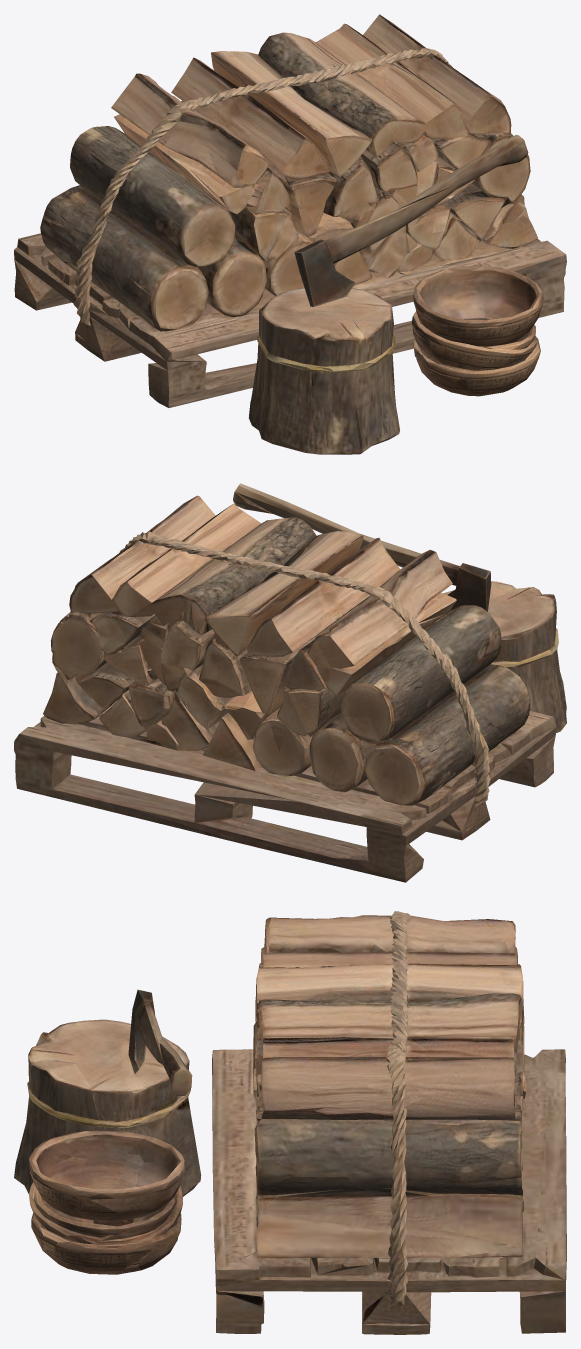
The model's file is et_woodpile.glb.
3 renders of one model, top to bottom at view 1: azimuth 30°, elevation 25°; view 2: azimuth 150°, elevation 25°; view 3: azimuth 270°, elevation 25°, orthographic. The views are drawn at different scales.
Size of the model in its own units: 1.89 by 1 by 1.9.
1 material, 1 textured.
